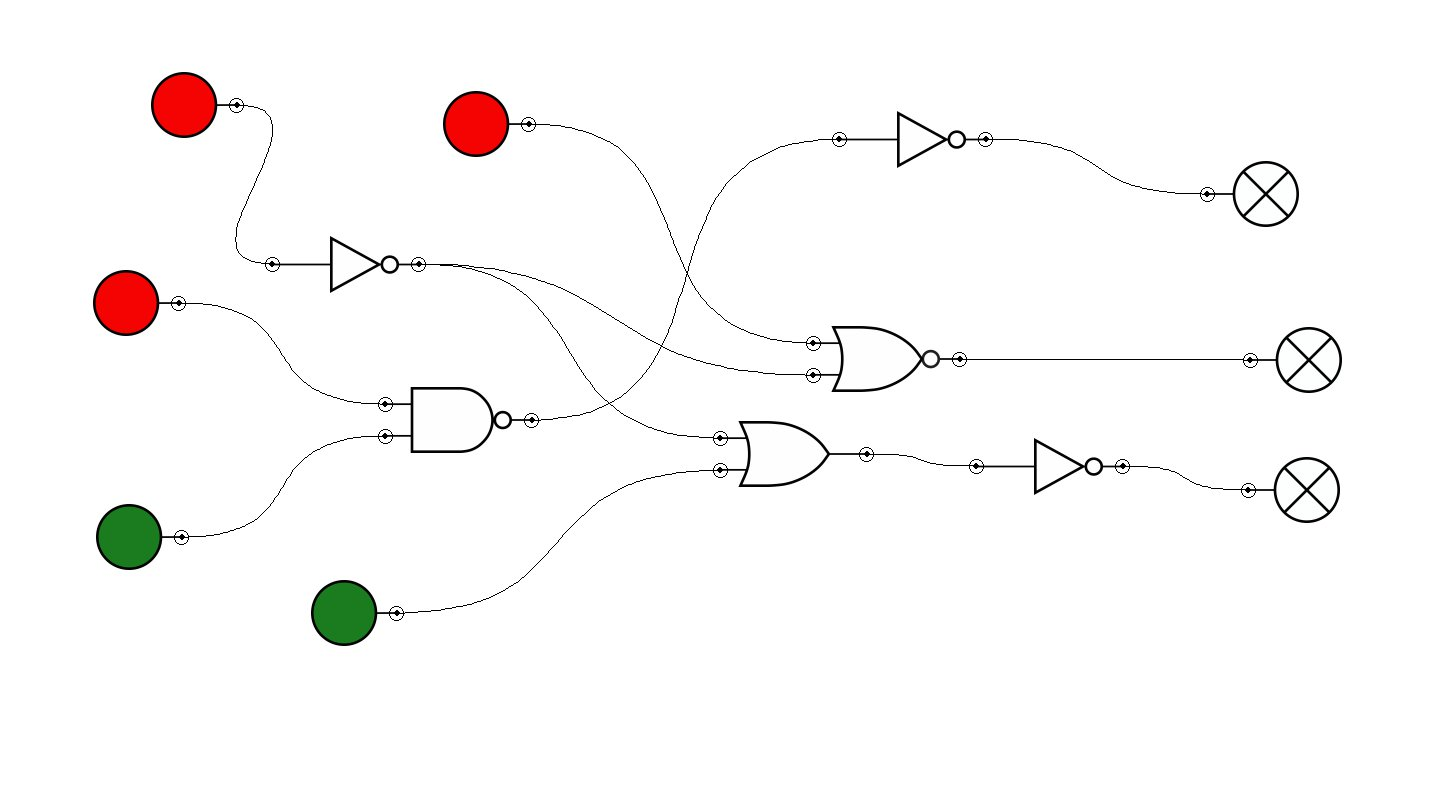bulb: (1200, 161, 1299, 227), (1241, 457, 1340, 523), (1243, 327, 1342, 393)
nand: (378, 387, 539, 453)
nor: (806, 326, 967, 392)
not: (265, 236, 426, 293), (969, 438, 1130, 495), (832, 111, 993, 168)
or: (713, 421, 874, 487)
switch_False: (443, 91, 536, 157), (93, 270, 186, 336), (151, 72, 244, 138)
switch_True: (96, 504, 189, 570), (311, 580, 404, 646)
